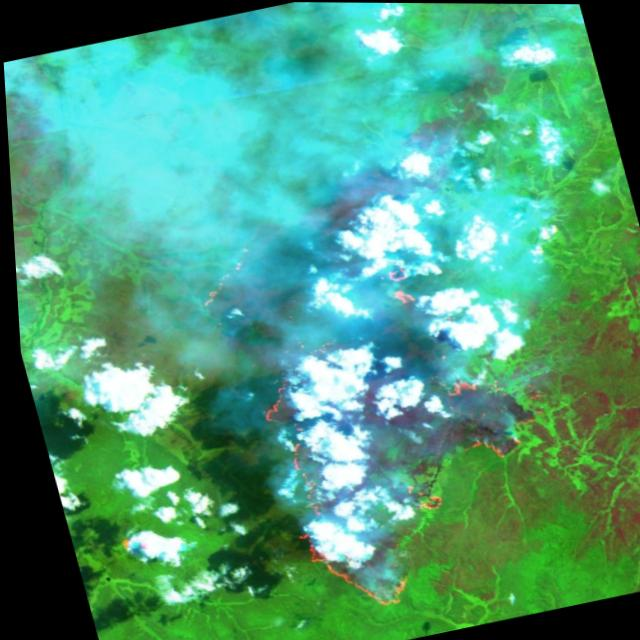fire: (175, 185, 592, 633)
